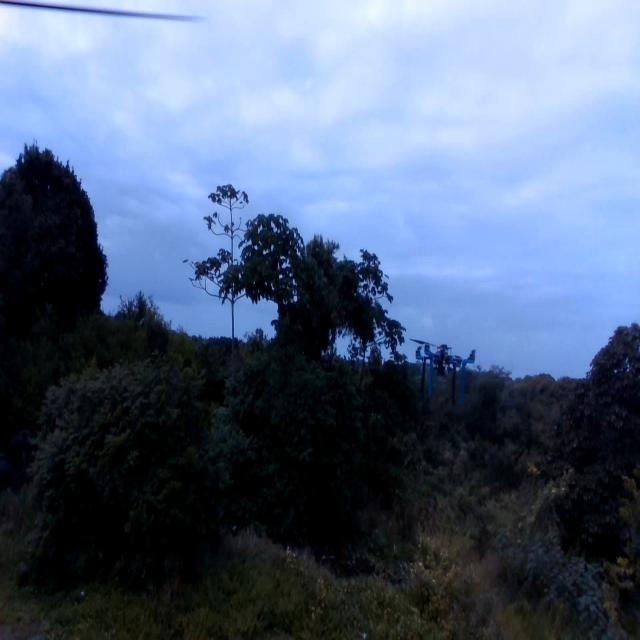-uav-: (410, 324, 483, 421)
